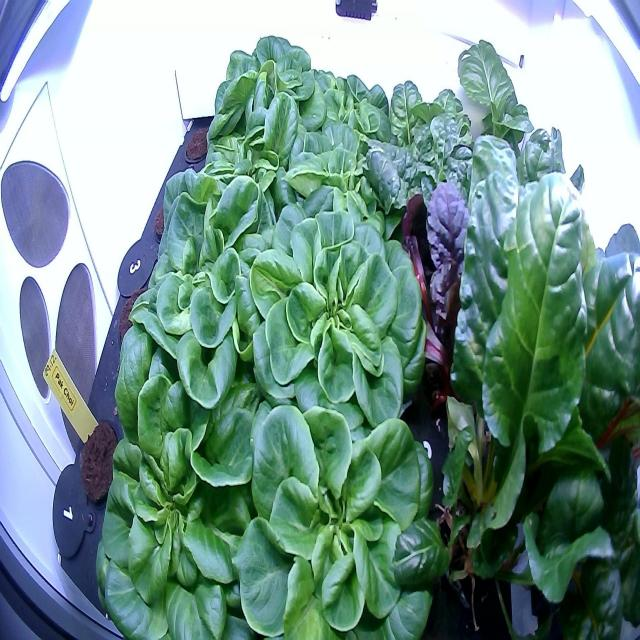Ready: (230, 397, 451, 639), (90, 352, 272, 640), (242, 182, 430, 432), (122, 152, 289, 424), (272, 112, 410, 256), (202, 75, 300, 196), (211, 31, 327, 133), (300, 60, 389, 169)
pod: (76, 407, 122, 512), (181, 113, 216, 168)
